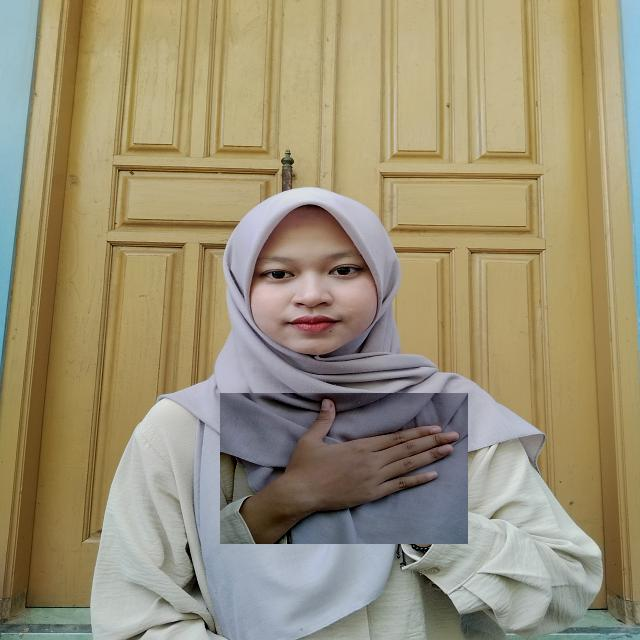tolong: (220, 393, 468, 544)
